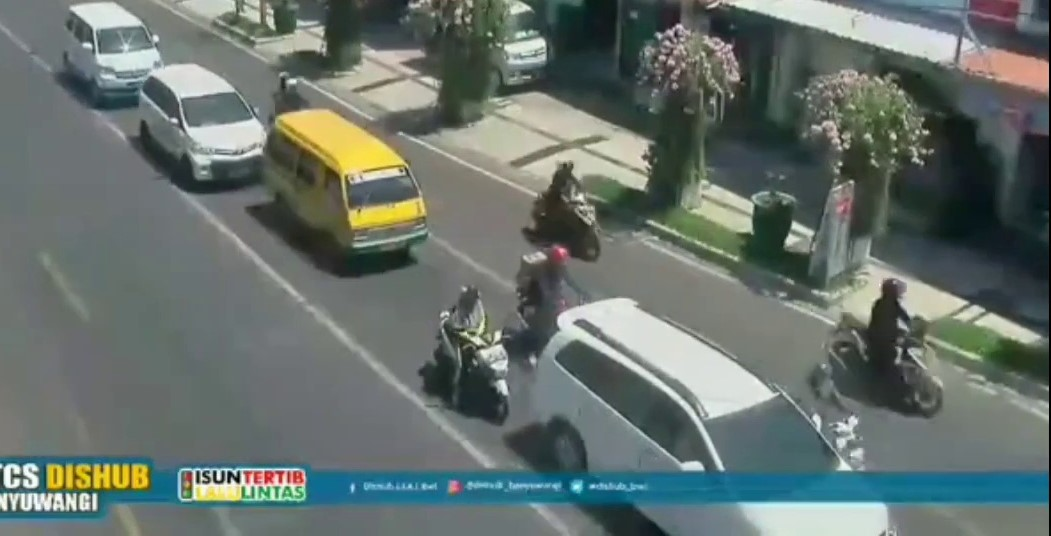car: (534, 294, 889, 536), (261, 107, 432, 265), (138, 61, 263, 190), (66, 4, 160, 106)
motorbike: (841, 268, 946, 418), (427, 283, 514, 431), (515, 244, 591, 362), (529, 159, 602, 259)
